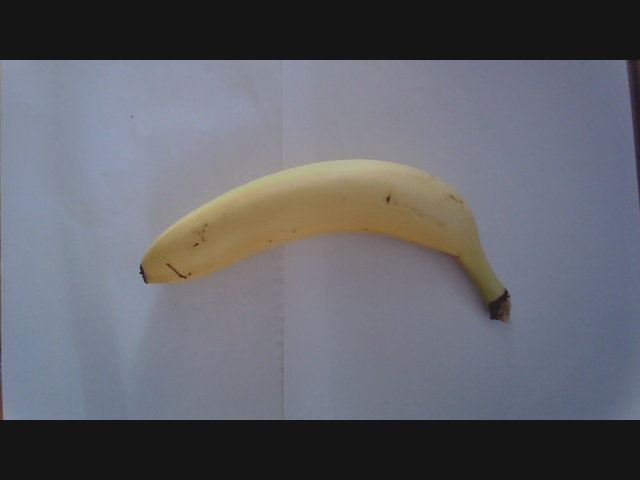banana: (130, 157, 525, 320)
